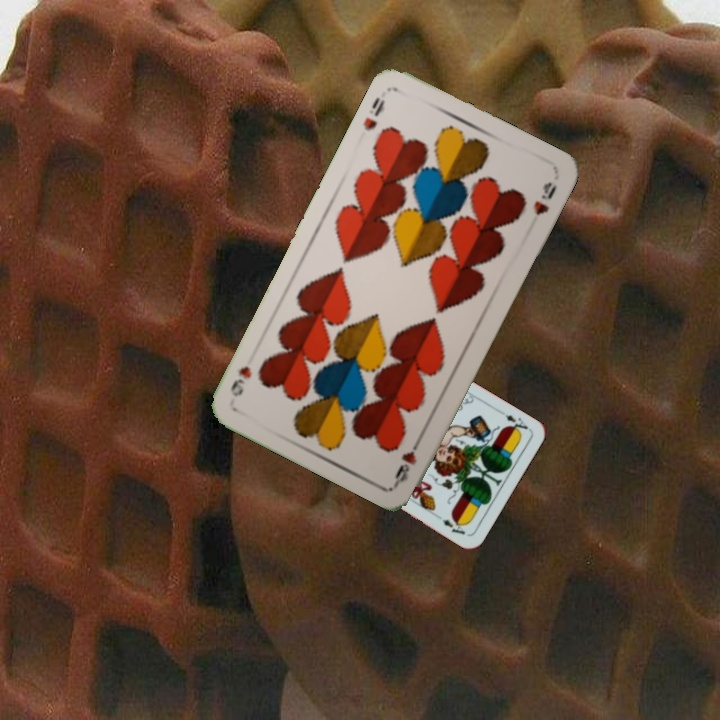EA: (501, 410, 531, 438)
H9: (390, 431, 425, 486), (359, 93, 388, 134)
